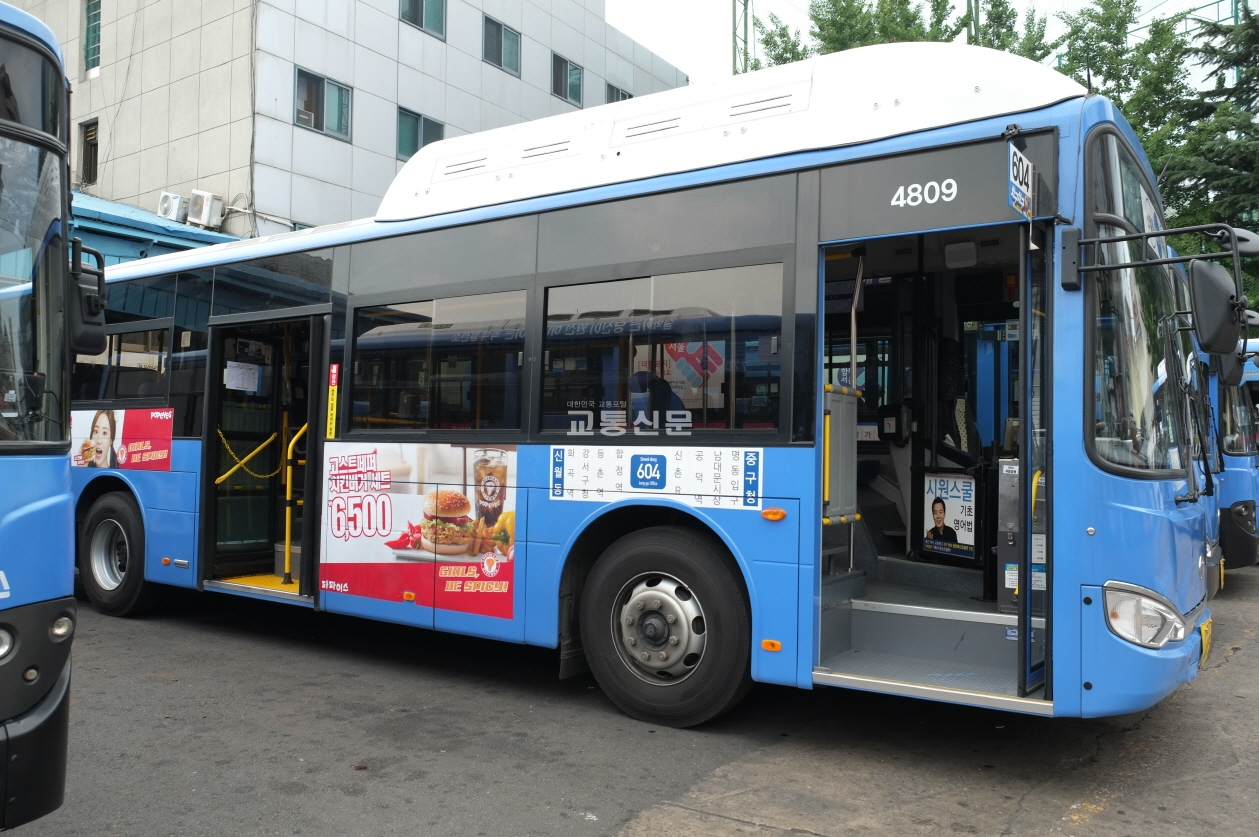entrance: (816, 217, 1055, 722)
